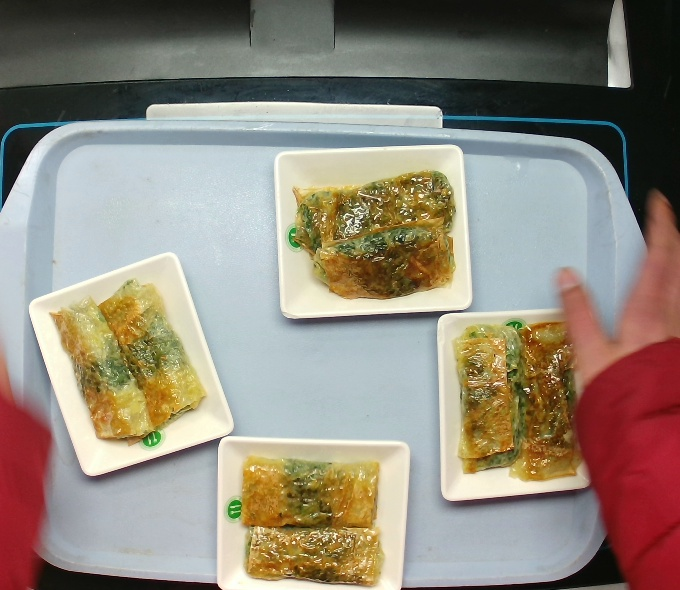wcq-CaiBao: (432, 311, 602, 498), (42, 268, 208, 459), (279, 159, 465, 307), (222, 440, 390, 590)
